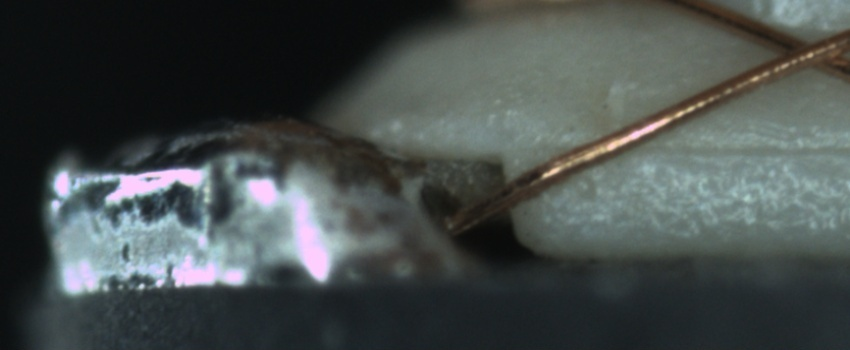CL: (754, 20, 846, 80)
DL: (615, 116, 845, 182)
